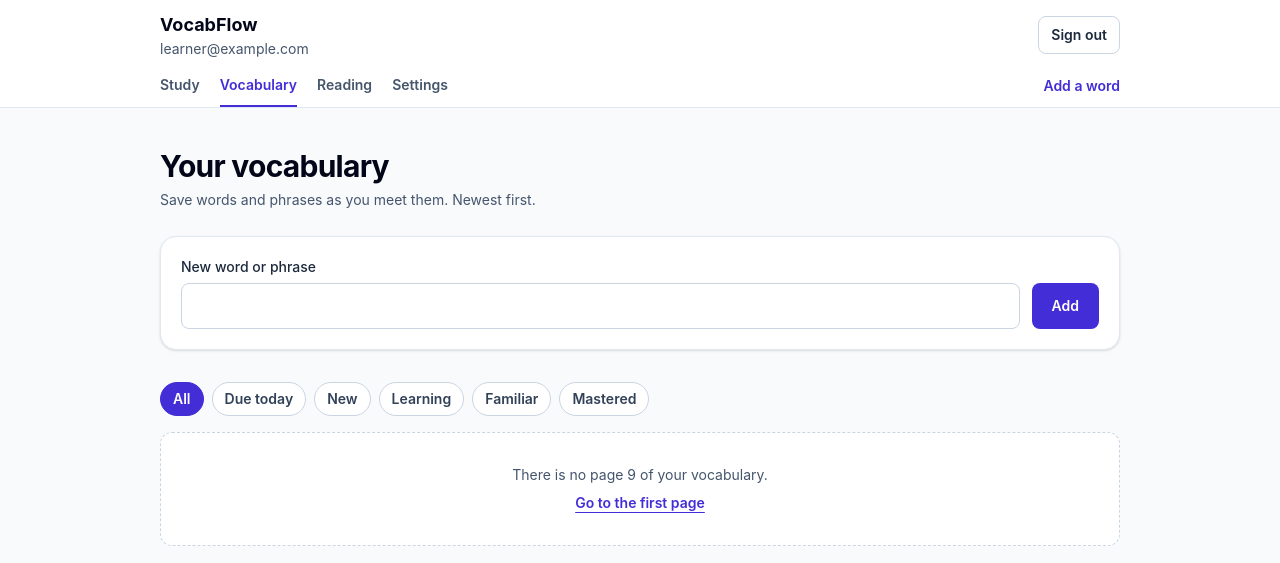
it: offers a way back when the page in the URL does not exist
Expected: the text "There is no page 9 of your vocabulary." is shown, x1=512 y1=466 x2=768 y2=483
Click the button "Go to the first page" at (640, 503), box x1=575 y1=493 x2=705 y2=513
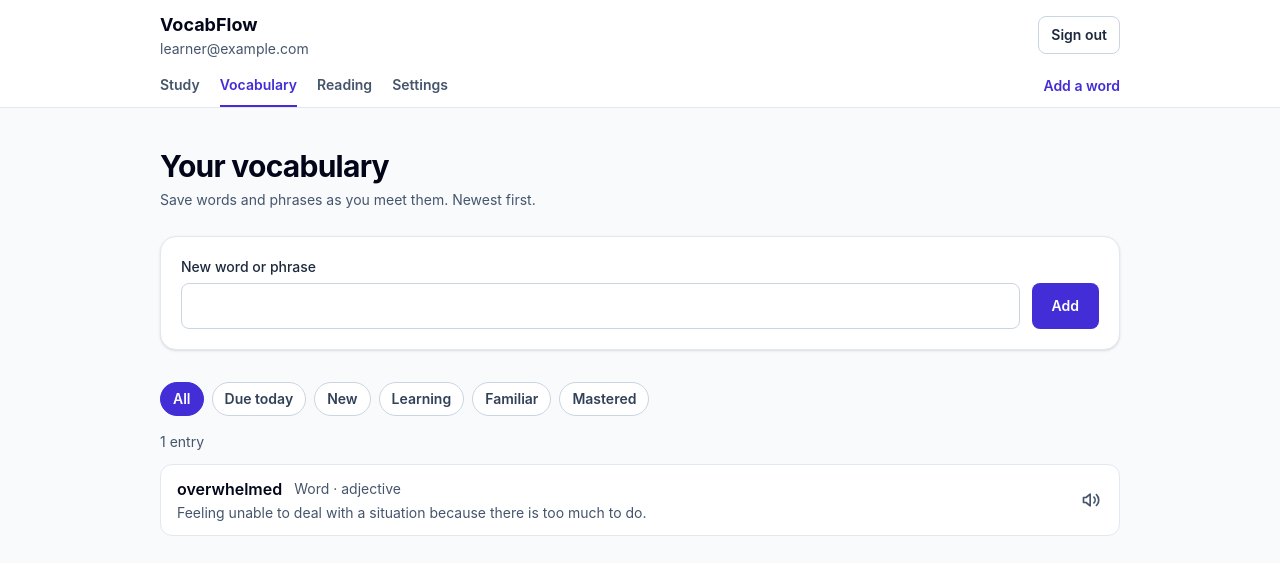
Now the text "overwhelmed" is shown, box x1=177 y1=477 x2=282 y2=501
